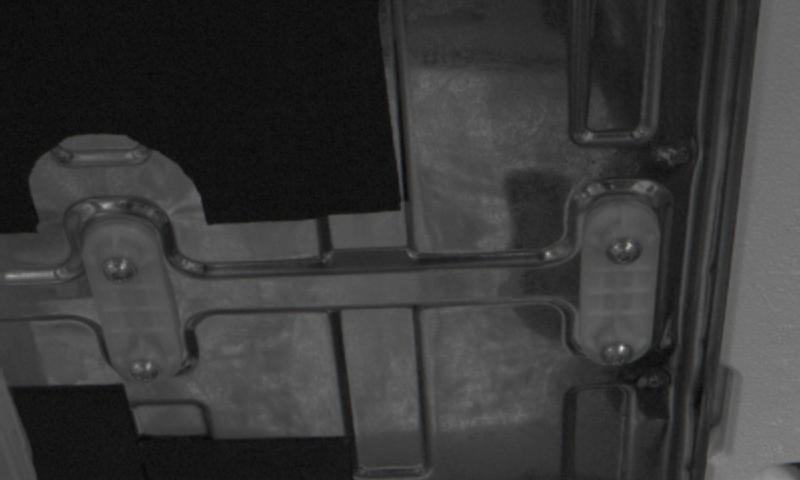vida-ok: (103, 246, 149, 290), (603, 231, 650, 274), (129, 347, 174, 387), (598, 333, 644, 372)
